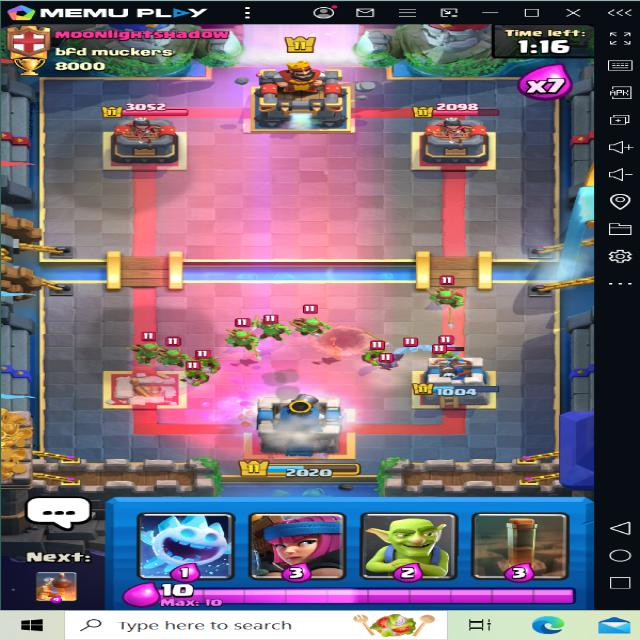bats: (372, 356, 406, 370)
goblin: (276, 313, 312, 338), (176, 364, 212, 388)
spear-goblin: (424, 278, 468, 308), (289, 311, 330, 338), (157, 334, 193, 363), (131, 336, 164, 364), (226, 328, 260, 348), (252, 316, 276, 336)
